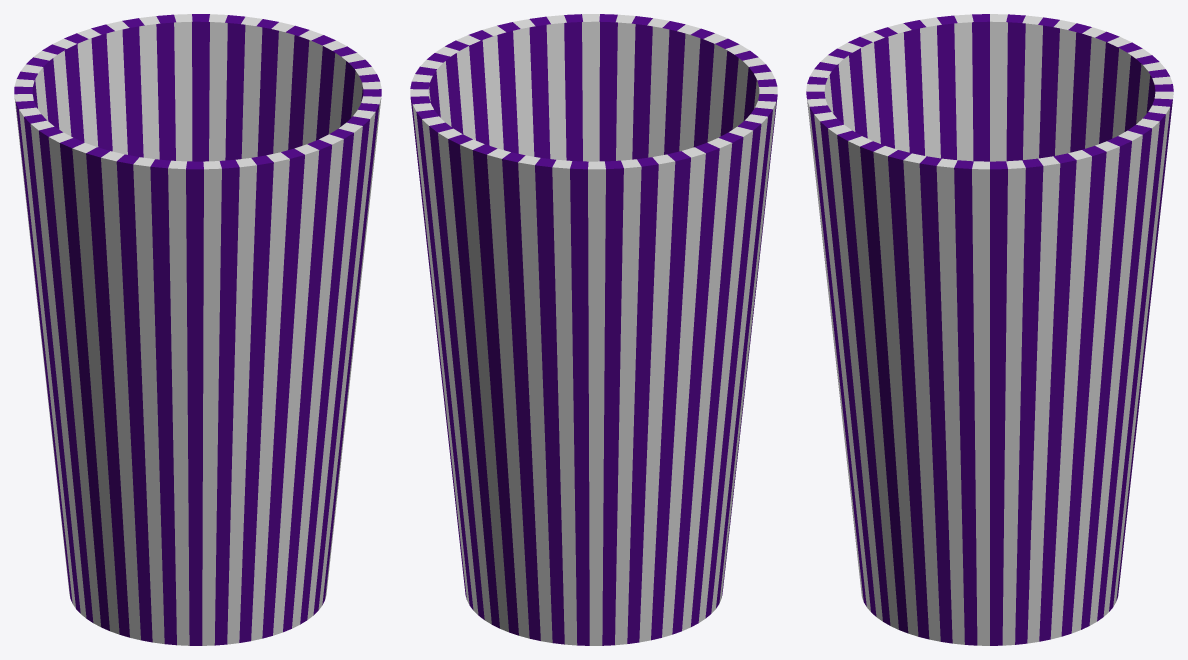
Rendered from Cup Purple.glb.
3 views of the same model, side by side, from view 1: azimuth 30°, elevation 25°; view 2: azimuth 150°, elevation 25°; view 3: azimuth 270°, elevation 25° (orthographic).
Parts seen in each view (by area): view 1: Cone; view 2: Cone; view 3: Cone.
Boxes of the visible parts, x1,y1,x2,y2 form: Cone: (14, 14, 381, 645); Cone: (410, 14, 777, 645); Cone: (806, 14, 1173, 645).
Bounding box in the file's own units: 0.2 × 0.3 × 0.2.
